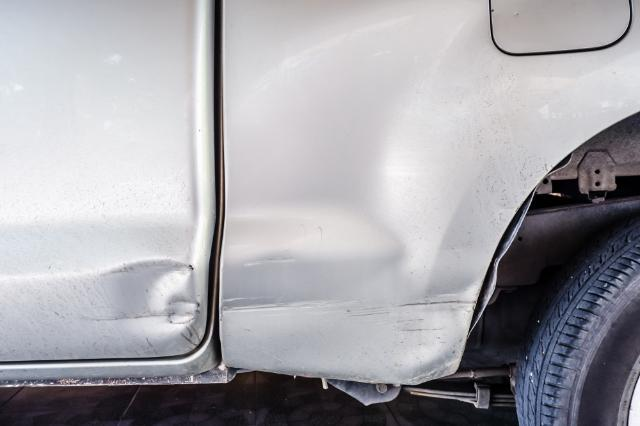dent: (222, 30, 495, 374), (108, 263, 196, 335)
